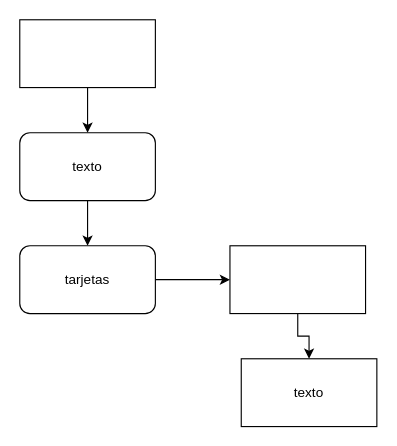
This 397x446 diagram has some shape labels left out. Each missing label, with the centre of its shape:
"carrusel" belongs at [87,53].
"tarjeta" belongs at [297,279].
